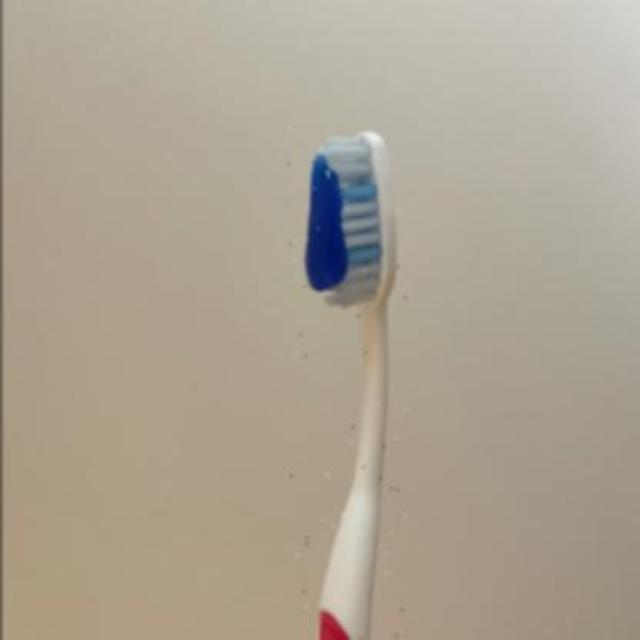toothbrush: (286, 110, 406, 640)
